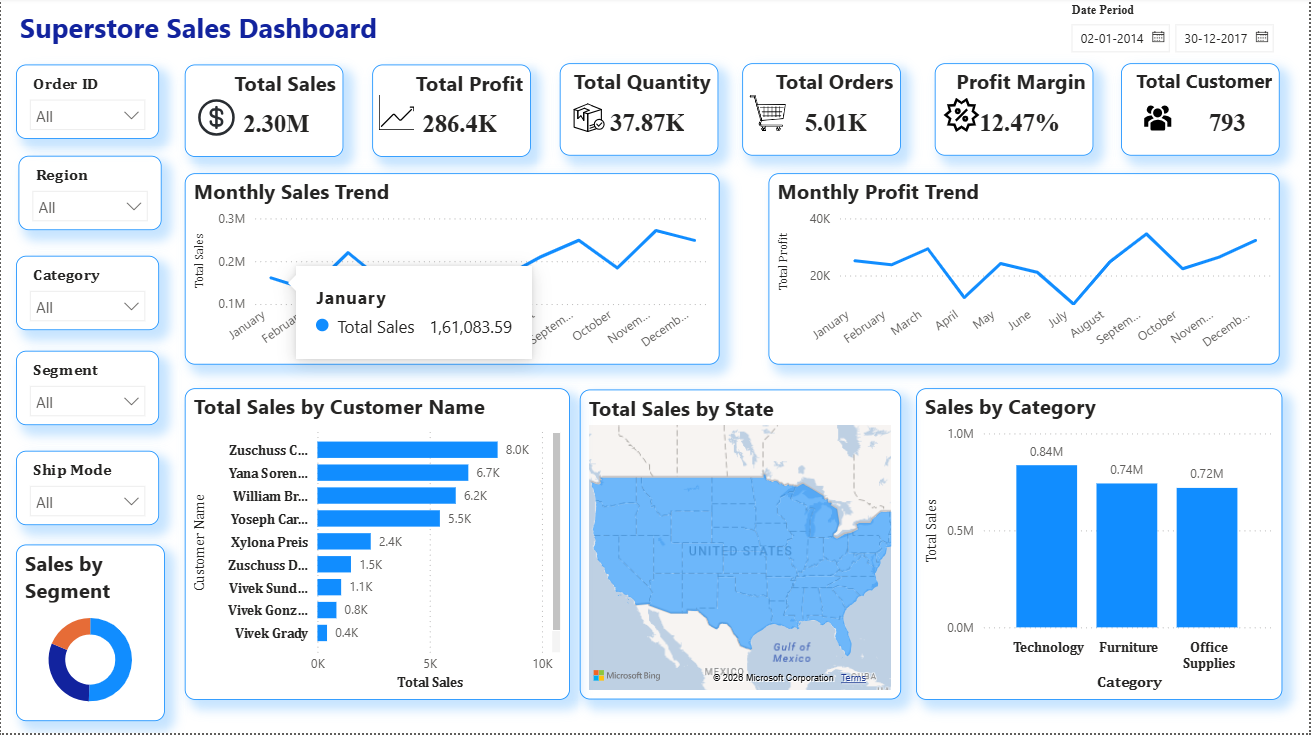

Layout of this report page (visuals, bound fields, positions):
{"tool":"powerbi","page":{"name":"Page 1","canvas":[1280,720],"ordinal":0},"visuals":[{"type":"cardVisual","title":"Total Profit","fields":{"Data":["Measures (2).Total Profit"]},"box":[363.8,66.2,155,90],"z":0},{"type":"cardVisual","title":"Total Sales","fields":{"Data":["Measures (2).Total Sales"]},"box":[180,66.2,155,90],"z":1000},{"type":"cardVisual","title":"Total Quantity","fields":{"Data":["Measures (2).Total Quantity"]},"box":[546.2,65,155,90],"z":2000},{"type":"cardVisual","title":"Profit Margin","fields":{"Data":["Measures (2).Profit Margin %"]},"box":[913.8,65,155,90],"z":3000},{"type":"cardVisual","title":"Total Orders","fields":{"Data":["Measures (2).Total Orders"]},"box":[725,65,155,90],"z":4000},{"type":"slicer","fields":{"Values":["Sales_data.Region"]},"box":[17.1,155.7,140,72.9],"z":5000},{"type":"slicer","fields":{"Values":["Sales_data.Order ID"]},"box":[14.3,65.7,140,72.9],"z":6000},{"type":"slicer","fields":{"Values":["Sales_data.Segment"]},"box":[14.3,345.7,140,72.9],"z":7000},{"type":"slicer","fields":{"Values":["Sales_data.Category"]},"box":[14.3,252.9,140,72.9],"z":8000},{"type":"slicer","fields":{"Values":["Sales_data.Ship Mode"]},"box":[14.3,444.3,140,72.9],"z":9000},{"type":"lineChart","title":"Monthly Sales Trend","fields":{"Y":["Measures (2).Total Sales"],"Category":["Date_Table.Date.Variation.Date Hierarchy.Month"]},"box":[180,172.9,522.9,187.1],"z":10000},{"type":"lineChart","title":"Monthly Profit Trend","fields":{"Category":["Date_Table.Date.Variation.Date Hierarchy.Month"],"Y":["Measures (2).Total Profit"]},"box":[751.4,172.9,500,187.1],"z":11000},{"type":"clusteredColumnChart","title":"Sales by Category","fields":{"Category":["Sales_data.Category"],"Y":["Measures (2).Total Sales"]},"box":[895.1,382.7,358.3,304.5],"z":12000},{"type":"filledMap","fields":{"Category":["Sales_data.State"]},"box":[566.2,384,314.3,303.3],"z":13000},{"type":"clusteredBarChart","fields":{"Category":["Sales_data.Customer Name"],"Y":["Measures (2).Total Sales"]},"box":[179.8,382.7,376.6,304.5],"z":14000},{"type":"donutChart","title":"Sales by Segment","fields":{"Category":["Sales_data.Segment"],"Y":["Measures (2).Total Sales"]},"box":[14.3,535.7,145.7,172.9],"z":15000},{"type":"textbox","box":[13.8,6.2,370,48.8],"z":16000},{"type":"slicer","fields":{"Values":["Sales_data.Order Date"]},"box":[1035,1.2,217.5,66.2],"z":17000},{"type":"image","box":[190.8,97.8,40.4,40.4],"z":18000},{"type":"image","box":[369.3,95.4,35,35],"z":19000},{"type":"image","box":[732.5,94.2,35.5,39.1],"z":20000},{"type":"image","box":[556.4,97.8,35.5,40.4],"z":21000},{"type":"image","box":[922,95.4,35.5,40.4],"z":22000},{"type":"cardVisual","title":"Total Customer","fields":{"Data":["Measures (2).Total Customers"]},"box":[1096.2,65,155,90],"z":23000},{"type":"image","box":[1113.8,97.5,35,40],"z":24000}]}

Visuals, with their boxes in screenshot pixels (x1, y1, x2, y2), scaled from the page's 1280x720 canvas onto the 1311x735 screenshot:
"Total Profit" cardVisual: 373, 68, 531, 159
"Total Sales" cardVisual: 184, 68, 343, 159
"Total Quantity" cardVisual: 559, 66, 718, 158
"Profit Margin" cardVisual: 936, 66, 1095, 158
"Total Orders" cardVisual: 743, 66, 901, 158
slicer - Sales_data.Region: 18, 159, 161, 233
slicer - Sales_data.Order ID: 15, 67, 158, 141
slicer - Sales_data.Segment: 15, 353, 158, 427
slicer - Sales_data.Category: 15, 258, 158, 333
slicer - Sales_data.Ship Mode: 15, 454, 158, 528
"Monthly Sales Trend" lineChart: 184, 177, 720, 368
"Monthly Profit Trend" lineChart: 770, 177, 1282, 368
"Sales by Category" clusteredColumnChart: 917, 391, 1284, 702
filledMap - Sales_data.State: 580, 392, 902, 702
clusteredBarChart - Sales_data.Customer Name x Measures (2).Total Sales: 184, 391, 570, 702
"Sales by Segment" donutChart: 15, 547, 164, 723
textbox: 14, 6, 393, 56
slicer - Sales_data.Order Date: 1060, 1, 1283, 69
image: 195, 100, 237, 141
image: 378, 97, 414, 133
image: 750, 96, 787, 136
image: 570, 100, 606, 141
image: 944, 97, 981, 139
"Total Customer" cardVisual: 1123, 66, 1282, 158
image: 1141, 100, 1177, 140
